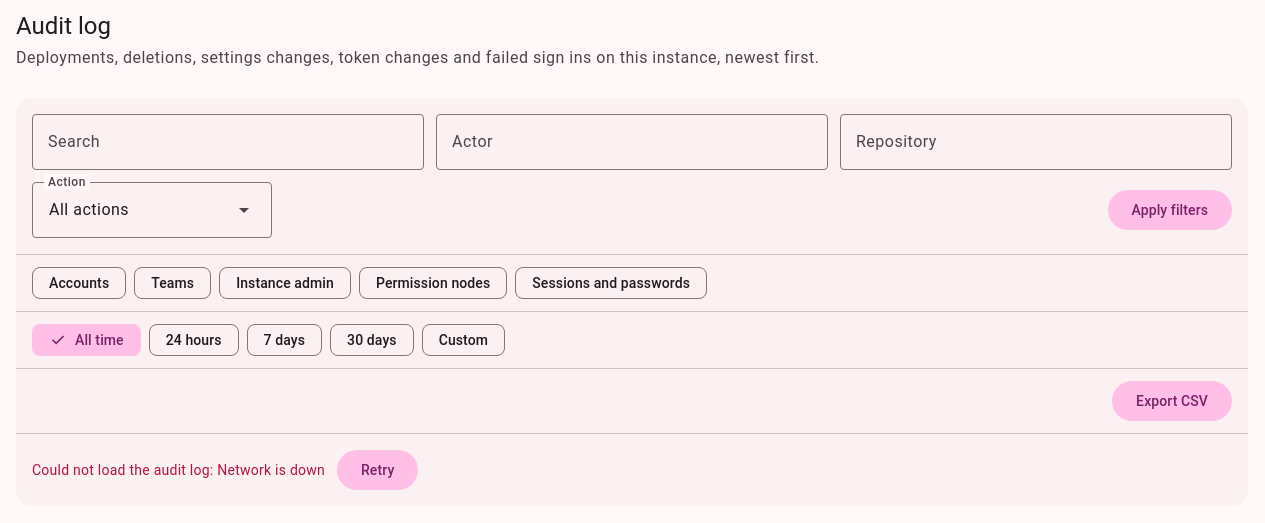
Test case: AuditView loading › shows the error with a retry, and loads the list again on retry
This screenshot has width=1265, height=523.
Expected: the message "Could not load the audit log: Network is down Retry" is shown, [16,433,1248,506]
Click the button "Retry": (378, 470) [337,450,418,490]
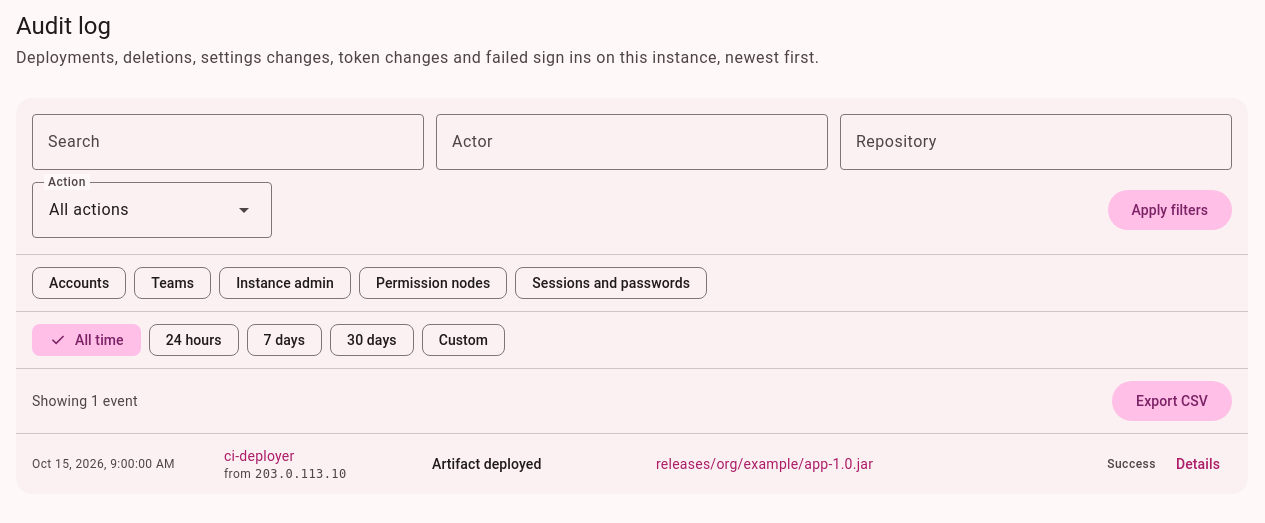
Now the text "Artifact deployed" is shown, box [432,456,542,472]
